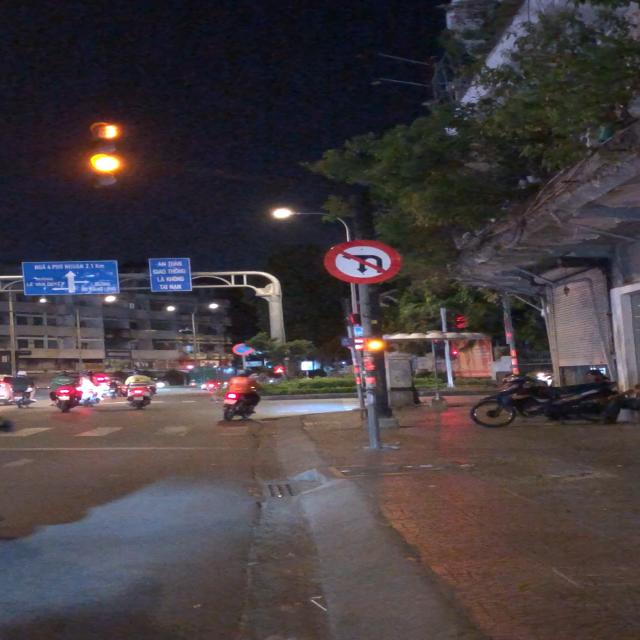Bien bao cam re trai va quay dau: (319, 238, 407, 284)
